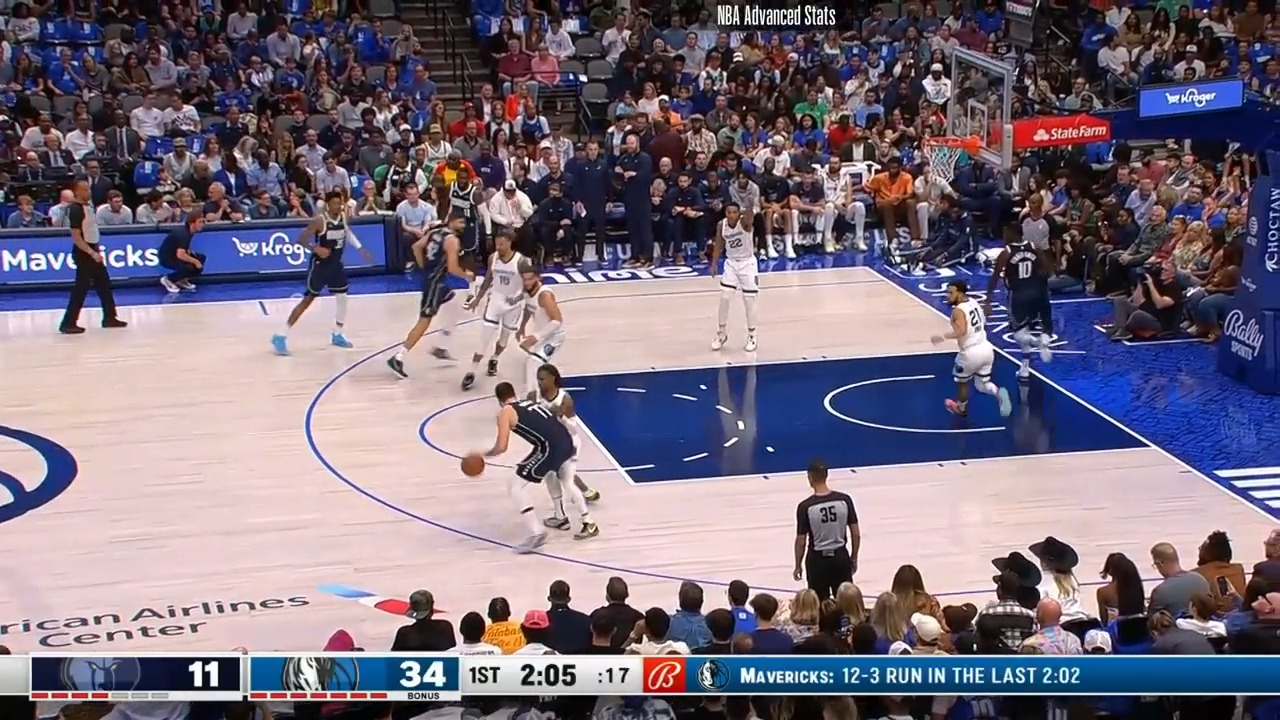net: (920, 131, 982, 182)
player: (482, 380, 578, 558), (386, 212, 480, 379), (456, 228, 542, 395), (277, 192, 362, 359), (527, 362, 600, 544), (935, 280, 1010, 425), (504, 268, 573, 404), (705, 201, 759, 354), (435, 163, 486, 312)
referee: (53, 180, 124, 341), (791, 458, 866, 603), (1001, 195, 1062, 355)
